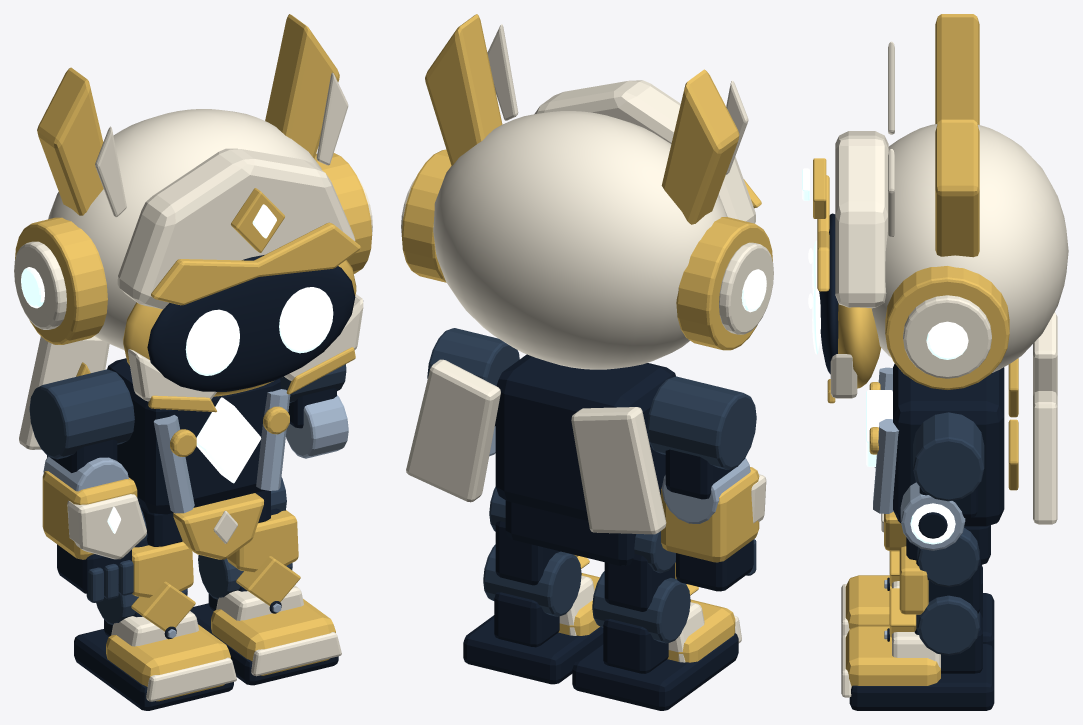
The model's file is lumi.glb.
3 views of the same model, side by side, from view 1: azimuth 30°, elevation 25°; view 2: azimuth 150°, elevation 25°; view 3: azimuth 270°, elevation 25° (orthographic). The views are drawn at different scales.
Parts seen in each view (by area): view 1: HeadArmor, LeftArmArmor, LeftLegArmor, RightLegArmor, TorsoArmor, RigArmor, HipsArmor, Core, EyeRight, EyeLeft; view 2: HeadArmor, RigArmor, LeftArmArmor, LeftLegArmor, TorsoArmor, RightLegArmor, HipsArmor; view 3: HeadArmor, RightLegArmor, RigArmor, TorsoArmor, LeftLegArmor, HipsArmor, Core, EyeRight.
Part boxes in pixels (bbox=[...]): HeadArmor: bbox=[14, 14, 372, 412]; LeftArmArmor: bbox=[29, 369, 146, 602]; LeftLegArmor: bbox=[74, 505, 236, 710]; RightLegArmor: bbox=[190, 477, 341, 685]; TorsoArmor: bbox=[107, 358, 290, 514]; RigArmor: bbox=[19, 336, 348, 458]; HipsArmor: bbox=[140, 490, 270, 559]; Core: bbox=[196, 397, 261, 483]; EyeRight: bbox=[279, 287, 333, 353]; EyeLeft: bbox=[185, 309, 239, 375]; HeadArmor: bbox=[401, 14, 773, 369]; RigArmor: bbox=[406, 328, 666, 534]; LeftArmArmor: bbox=[647, 376, 766, 591]; LeftLegArmor: bbox=[572, 531, 741, 710]; TorsoArmor: bbox=[495, 354, 675, 520]; RightLegArmor: bbox=[463, 487, 603, 684]; HipsArmor: bbox=[505, 500, 636, 565]; HeadArmor: bbox=[802, 14, 1068, 403]; RightLegArmor: bbox=[841, 527, 994, 710]; RigArmor: bbox=[900, 312, 1057, 550]; TorsoArmor: bbox=[869, 363, 1004, 526]; LeftLegArmor: bbox=[841, 551, 994, 650]; HipsArmor: bbox=[881, 511, 990, 564]; Core: bbox=[866, 390, 892, 466]; EyeRight: bbox=[812, 285, 820, 354].
Size of the model in its own units: 1.68 by 2.98 by 1.2.
